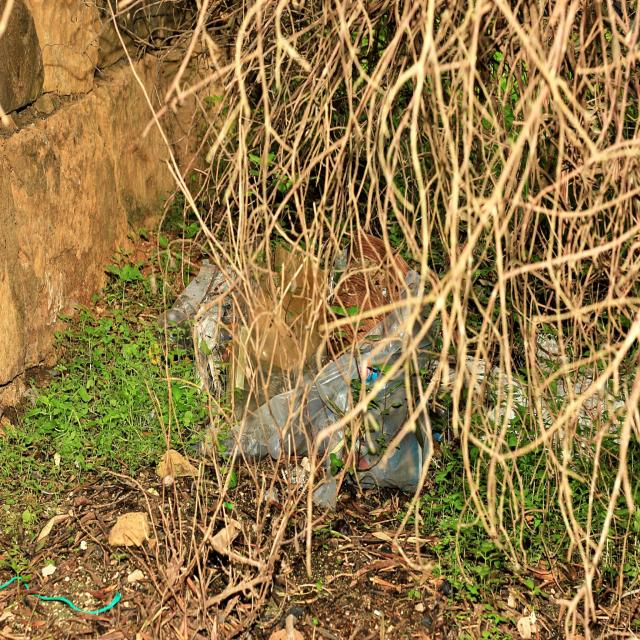Bottle: (152, 265, 222, 360), (195, 266, 244, 396)
Other litter: (327, 235, 408, 350)
Other plastic: (201, 268, 440, 518), (465, 327, 634, 453)
